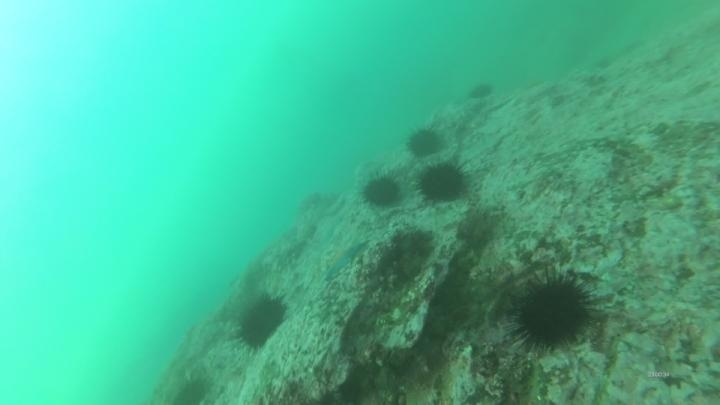echinus: (509, 268, 597, 353), (233, 291, 289, 351), (416, 159, 470, 205), (359, 171, 404, 210), (404, 124, 445, 160), (172, 374, 213, 405), (467, 80, 495, 102)
starfish: (320, 236, 369, 283)
